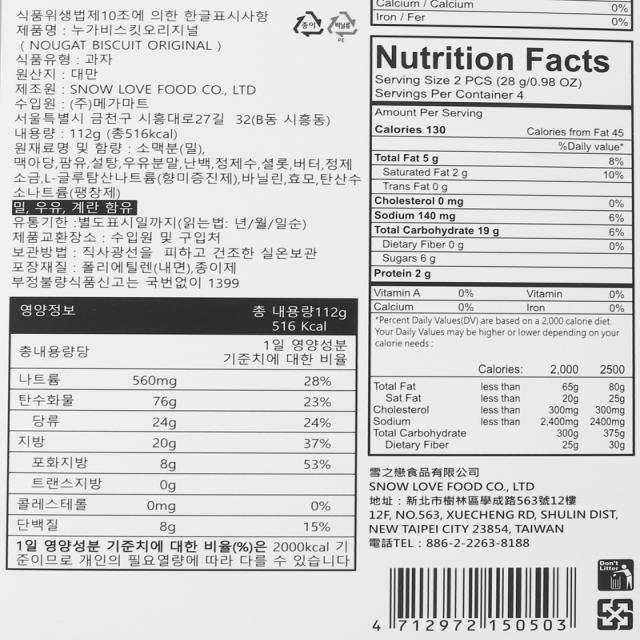Nutrition Label: (360, 27, 640, 465), (0, 289, 367, 578)
